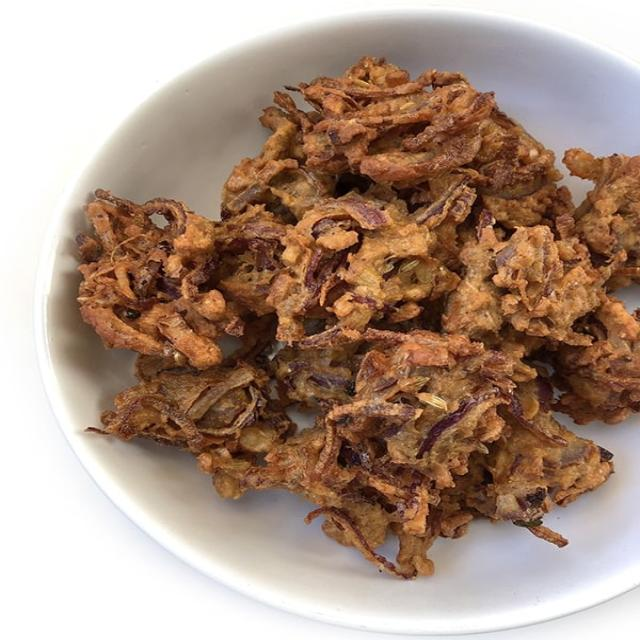BAJI: (59, 52, 639, 579)
